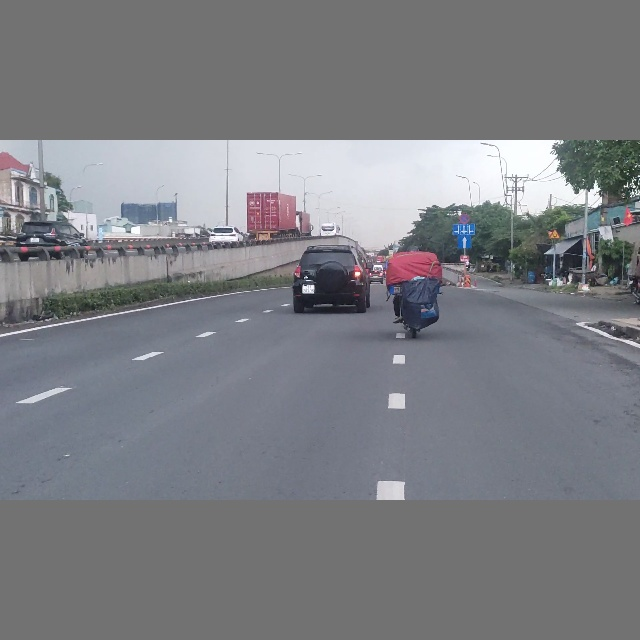I.407a: (458, 235, 472, 248)
P.130: (458, 212, 470, 224)
W.246a: (549, 229, 560, 238)
